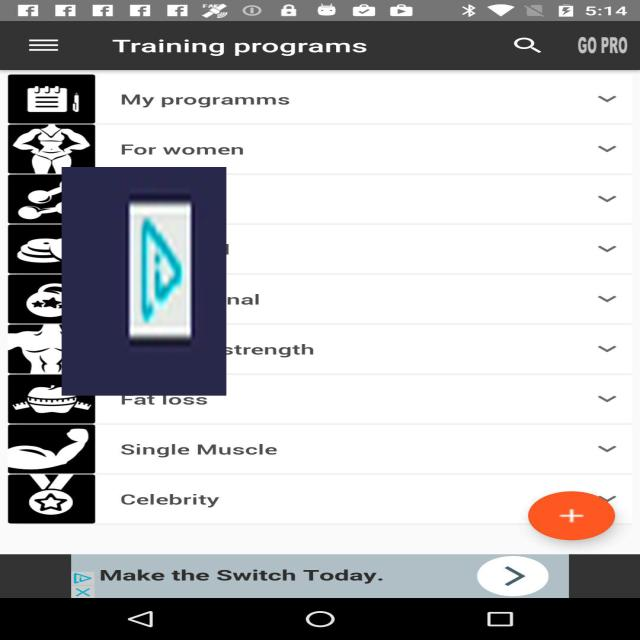sneaking: (62, 167, 226, 396)
